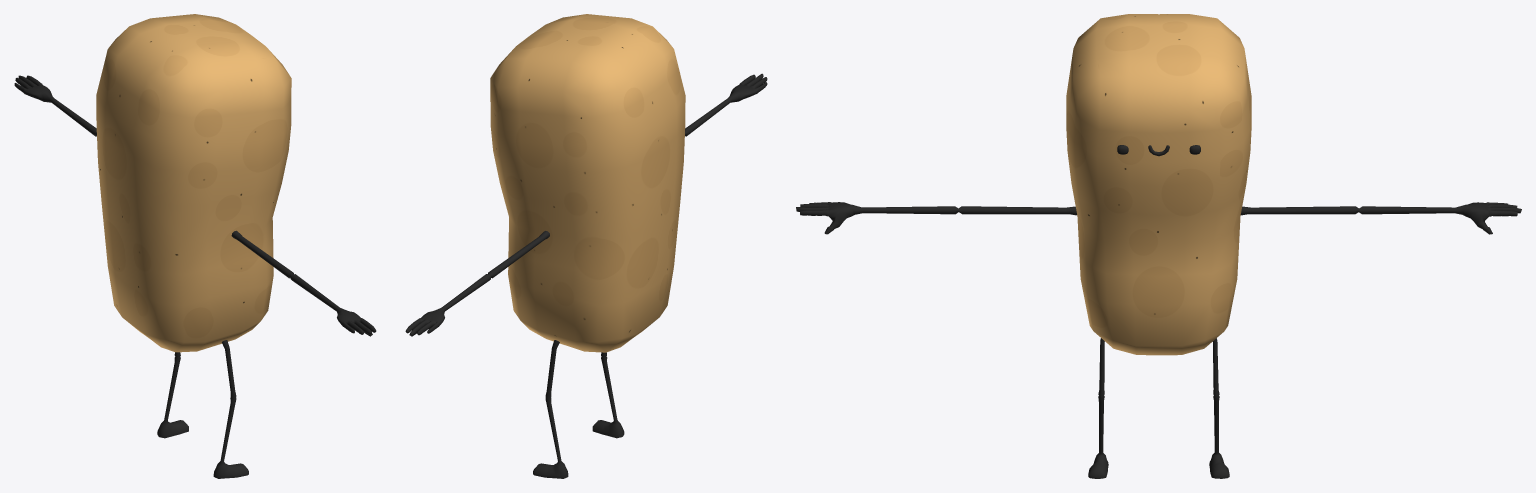
The model's file is Potato Character.glb.
The picture shows the model from 3 angles, left to right: view 1: azimuth 30°, elevation 25°; view 2: azimuth 150°, elevation 25°; view 3: azimuth 270°, elevation 25°; orthographic projection. The views are drawn at different scales.
Parts seen in each view (by area): view 1: _100Avatars_188_CoolPotato; view 2: _100Avatars_188_CoolPotato; view 3: _100Avatars_188_CoolPotato.
Part boxes in pixels (<box>): _100Avatars_188_CoolPotato: <box>14,14,376,478</box>; _100Avatars_188_CoolPotato: <box>405,14,767,478</box>; _100Avatars_188_CoolPotato: <box>796,14,1521,478</box>.
Bounding box in the file's own units: 1.34 × 3.57 × 5.38.
1 material, 1 textured.
